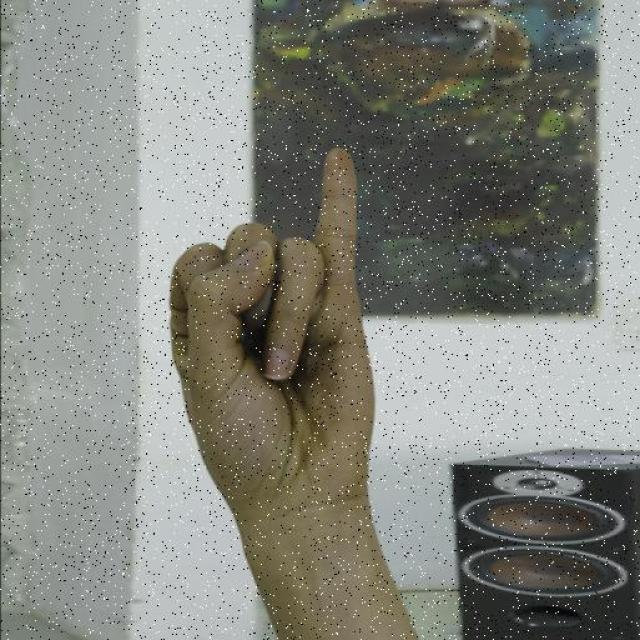I: (164, 144, 380, 521)
